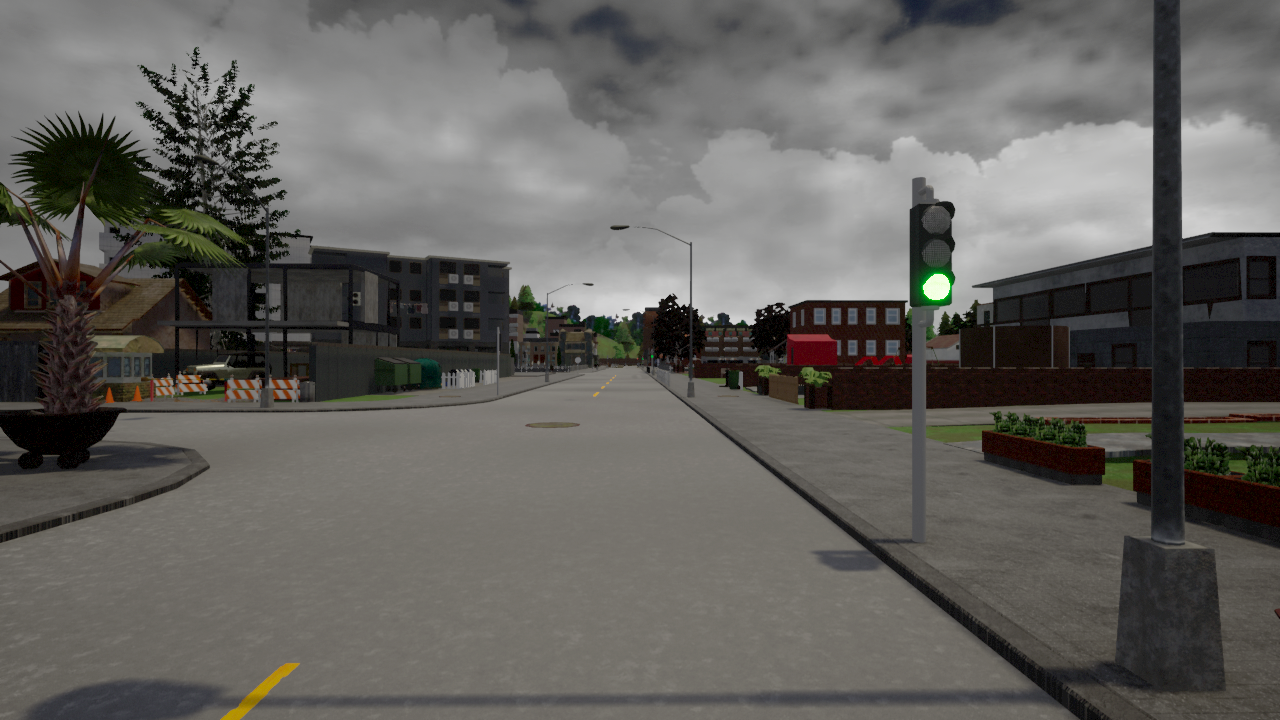green: (908, 198, 957, 309)
